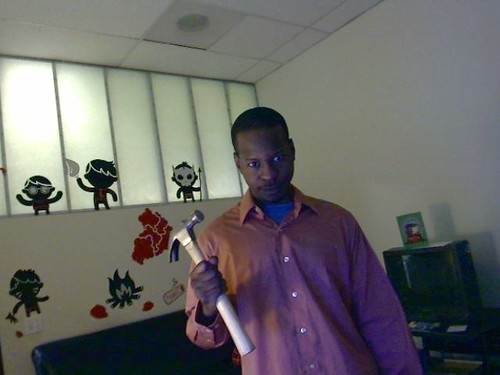hammer: (166, 208, 255, 356)
